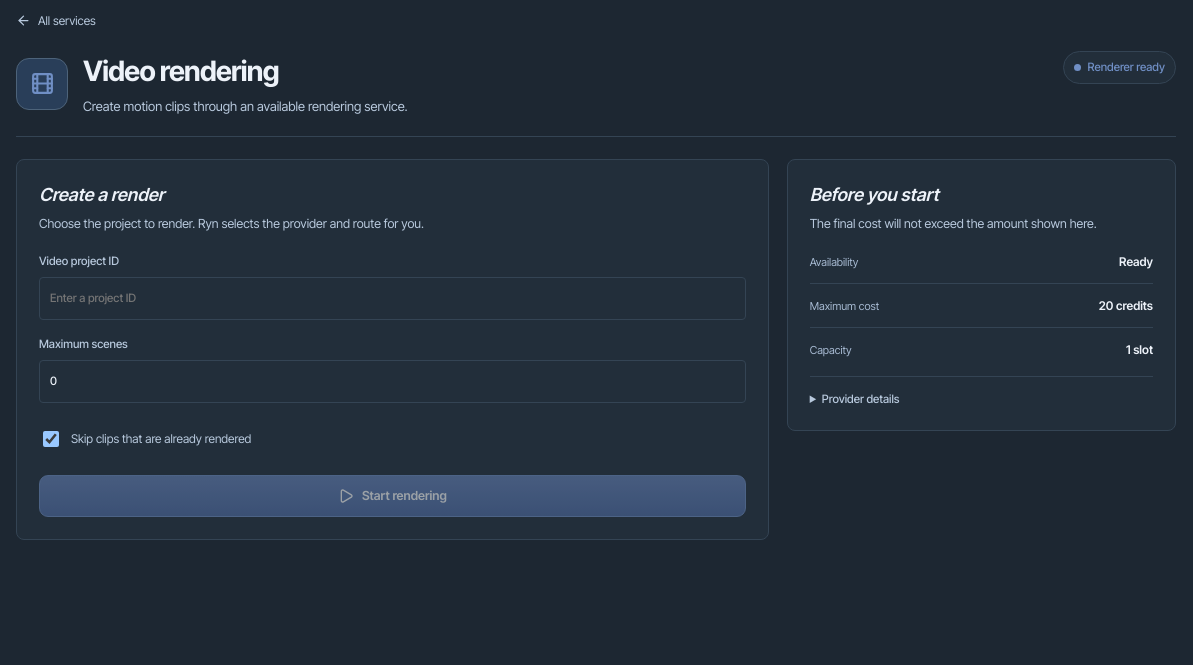
it: Service-specific experiences › does not resubmit a render after a lost acknowledgement without explicit review
The image size is (1193, 665).
Expected: the text "Renderer ready" is shown, [1062,51,1176,84]
In the field labelled "Video project ID": (392, 298) [39,277,746,320], type "pending-project"
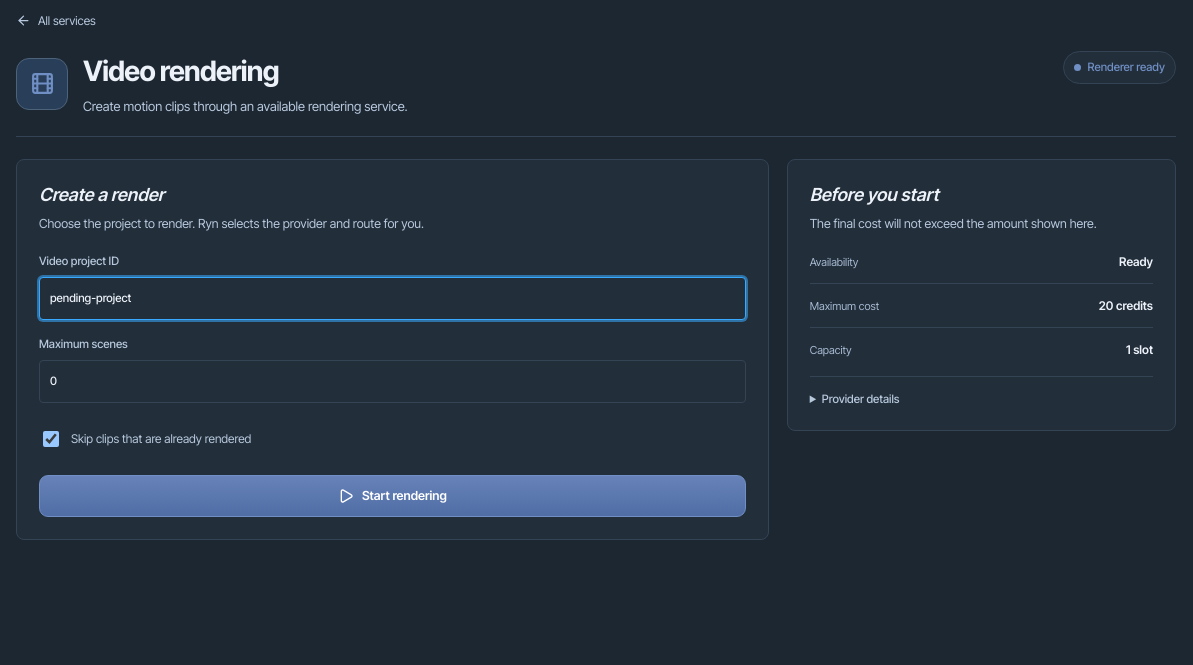
Click the button "Start rendering": (392, 496) [39,475,746,517]
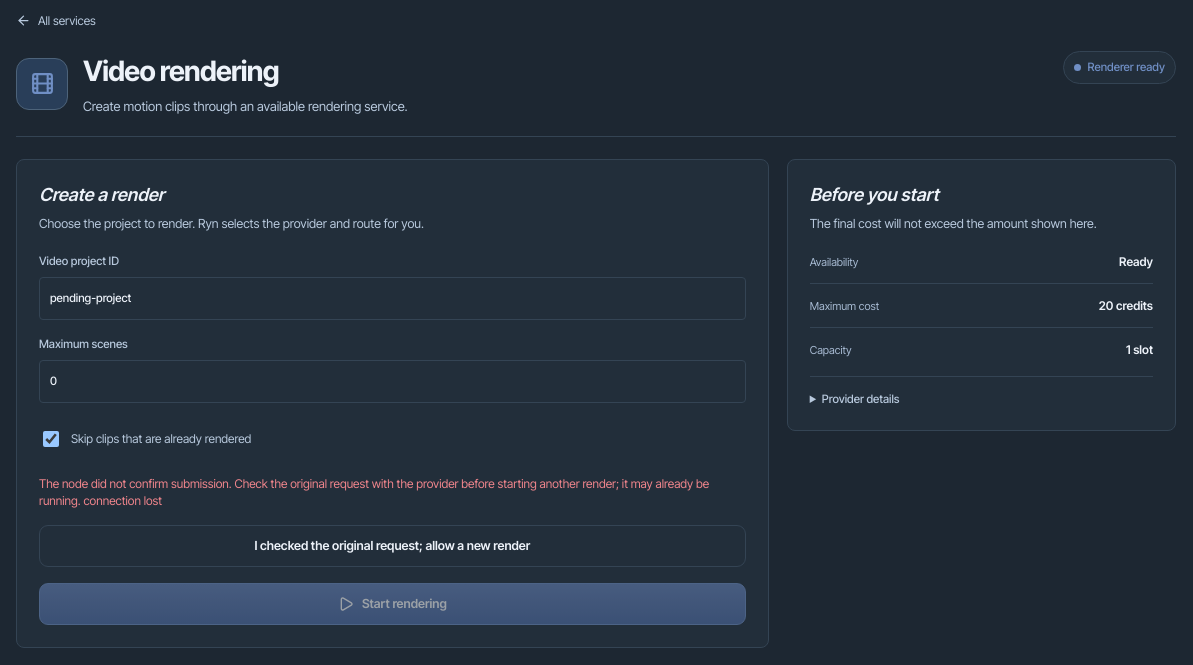
Expected: the message shows "may already be running", [39,476,709,508]
Expected: the button "Start rendering" is disabled, [39,584,746,626]
Click the button "I checked the original request; allow a new render": (392, 546) [39,526,746,568]
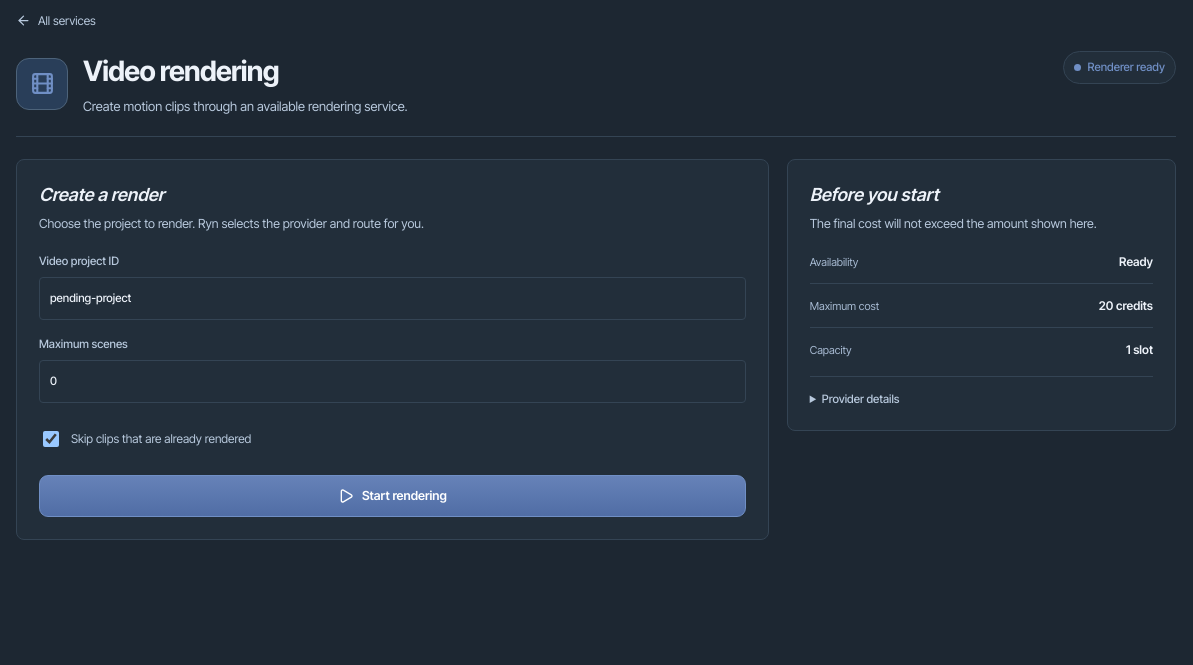
Expected: the button "Start rendering" is enabled, [39,475,746,517]
